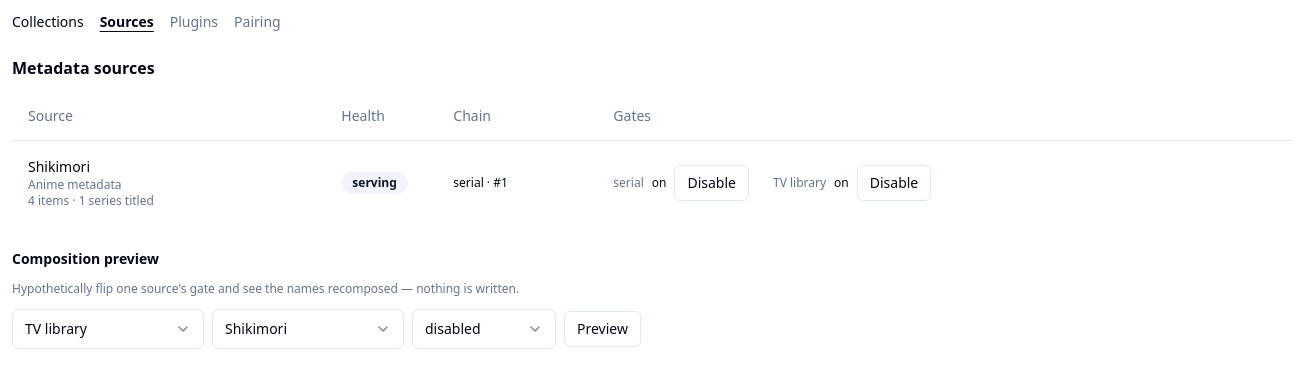
Test case: Sources — admin surface (plugin-title-enrichment 6.2) › collection toggle: enable PUTs the gate row, disable DELETEs it (clear-to-inherit)
Expected: the row that starts with "Shikimori" is shown, [12,140,1291,224]
// ON → OFF is the clear-to-inherit DELETE.
Click the button with aria-label "library 1 shikimori". click: (894, 182)
box: [857,164,931,200]
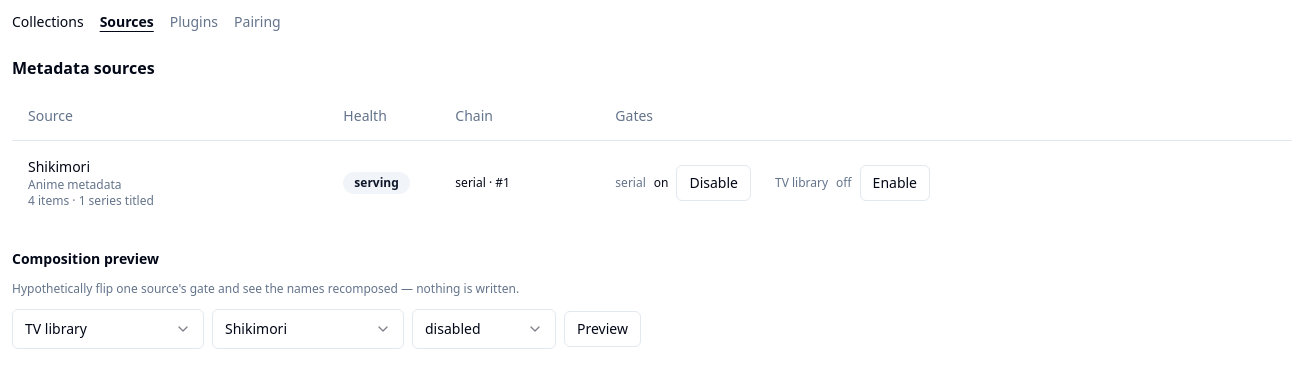
Result: the button with aria-label "library 1 shikimori" reads "Enable"
Click the button with aria-label "library 1 shikimori". click: (895, 182)
box: [860,164,930,200]
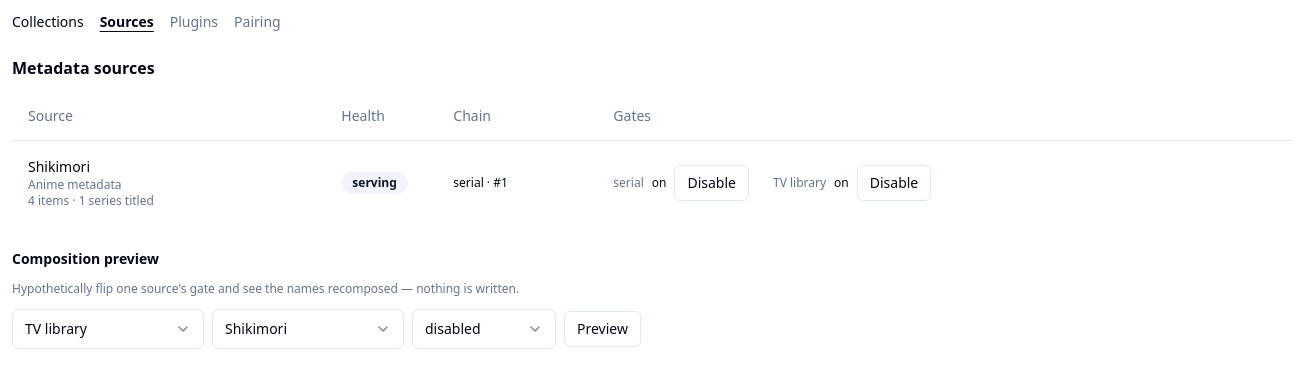
Result: the button with aria-label "library 1 shikimori" reads "Disable" at [857,164,931,200]
